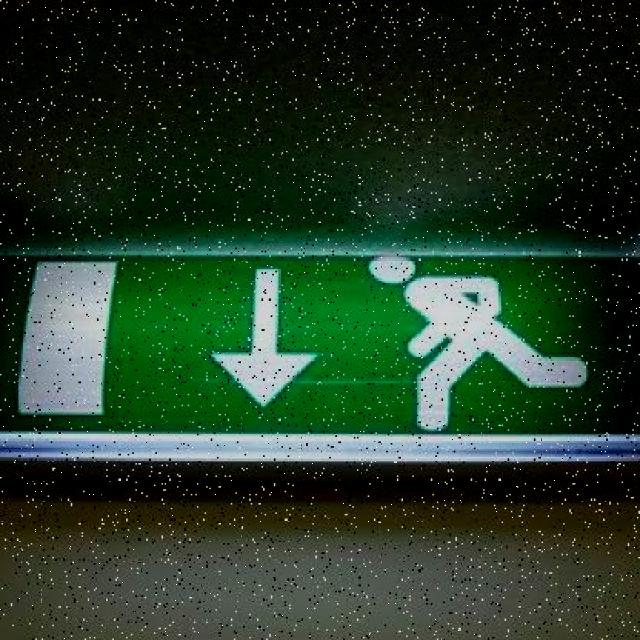emergency_exit: (1, 247, 639, 463)
